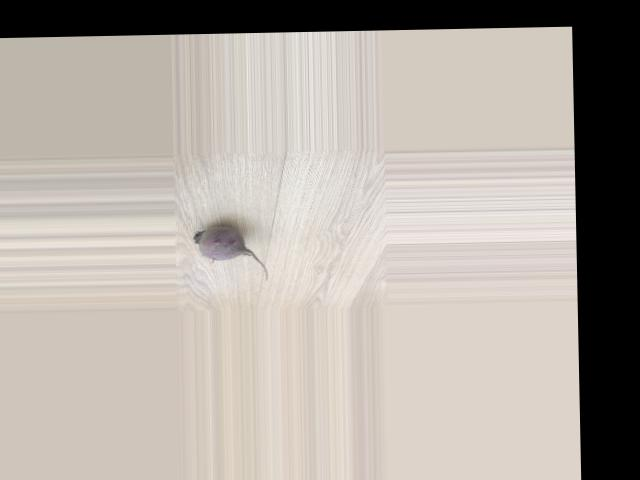beet: (194, 224, 270, 282)
